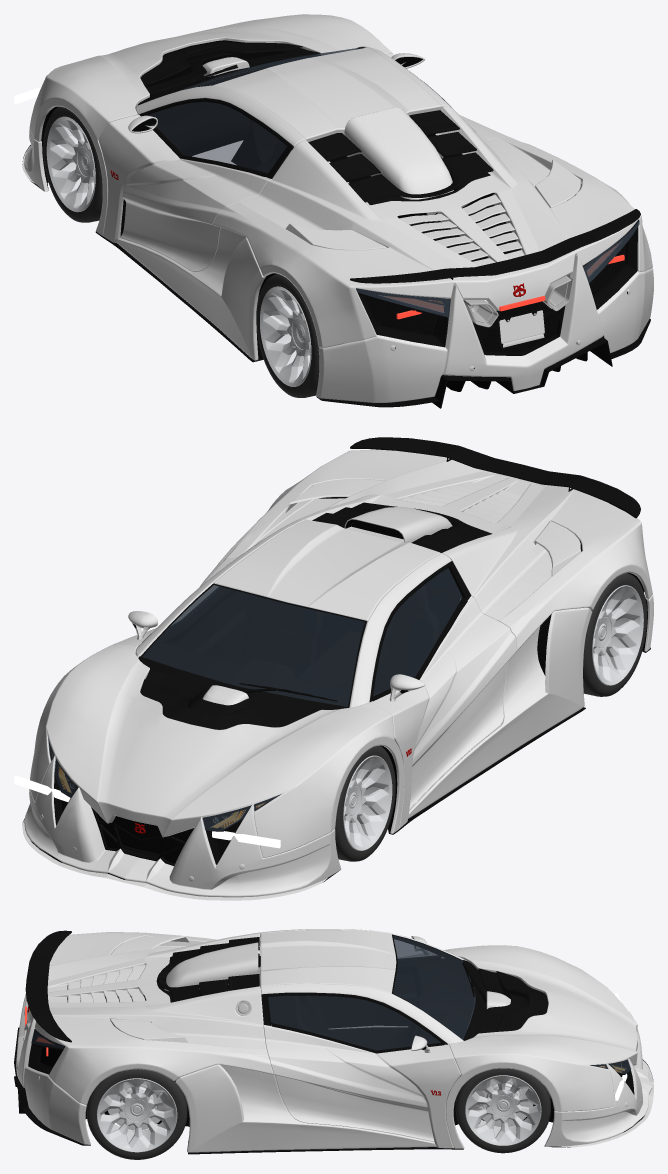
File: auto_goblin_lod0.glb
3 views of the same model, one above another, from view 1: azimuth 30°, elevation 25°; view 2: azimuth 150°, elevation 25°; view 3: azimuth 270°, elevation 25° (orthographic). The views are drawn at different scales.
Parts seen in each view (by area): view 1: Karosserie, Rad_HL, Rad_VL; view 2: Karosserie, Rad_HL, Rad_VL; view 3: Karosserie, Rad_HR, Rad_VR.
Boxes of the visible parts, bbox=[...] form: Karosserie: bbox=[22, 14, 653, 408]; Rad_HL: bbox=[256, 273, 319, 397]; Rad_VL: bbox=[43, 106, 102, 222]; Karosserie: bbox=[22, 437, 653, 900]; Rad_HL: bbox=[583, 573, 647, 696]; Rad_VL: bbox=[335, 746, 395, 861]; Karosserie: bbox=[14, 929, 653, 1154]; Rad_HR: bbox=[86, 1069, 187, 1159]; Rad_VR: bbox=[455, 1068, 550, 1153].
Bounding box in the file's own units: 2.26 × 1.2 × 4.72.
11 materials, 1 textured.
